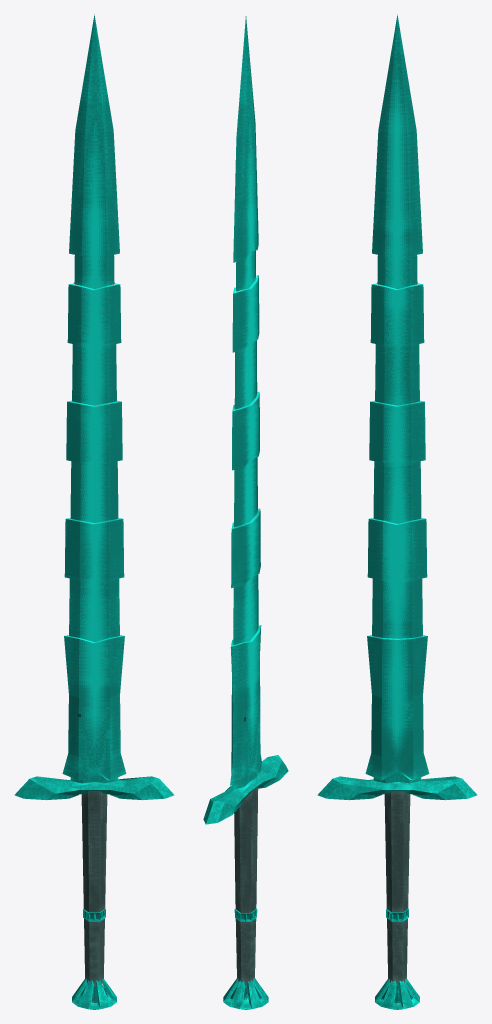
The model's file is crystallegendsword523.glb.
3 views of the same model, side by side, from view 1: azimuth 90°, elevation 25°; view 2: azimuth 150°, elevation 25°; view 3: azimuth 270°, elevation 25° (orthographic).
Parts seen in each view (by area): view 1: blade, hilt, crossguard, cone; view 2: blade, hilt, crossguard, cone; view 3: blade, hilt, crossguard, cone.
Boxes of the visible parts, left/top/right/bottom form: blade: left=62, top=14, right=126, bottom=783; hilt: left=81, top=791, right=107, bottom=984; crossguard: left=14, top=776, right=174, bottom=800; cone: left=72, top=979, right=116, bottom=1009; blade: left=230, top=16, right=261, bottom=789; hilt: left=234, top=787, right=258, bottom=985; crossguard: left=203, top=755, right=288, bottom=824; cone: left=223, top=978, right=268, bottom=1009; blade: left=365, top=14, right=429, bottom=783; hilt: left=384, top=791, right=410, bottom=984; crossguard: left=317, top=776, right=477, bottom=800; cone: left=375, top=979, right=419, bottom=1009.
Bounding box in the file's own units: 0.27 × 6.55 × 0.9566.
Materials: 2 (1 with a texture image).
